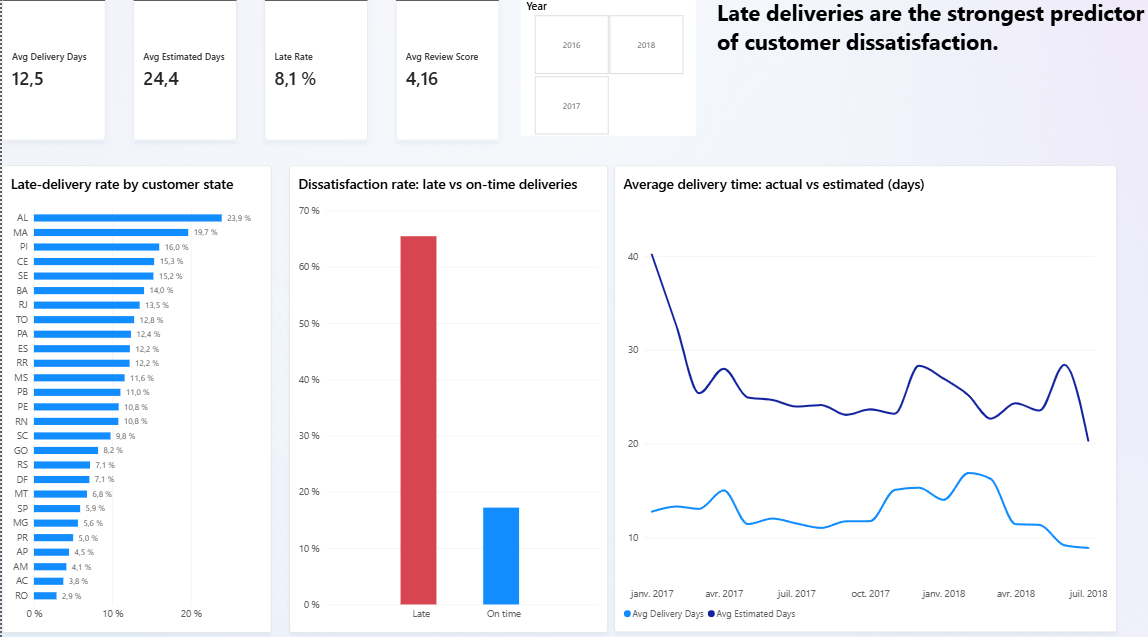

The page's visual inventory and layout, read from the dashboard file:
{"tool":"powerbi","page":{"name":"Logistics & Satisfaction","canvas":[1920,1080],"ordinal":1},"visuals":[{"type":"cardVisual","fields":{"Data":["Mesures.Avg Delivery Days"]},"box":[0,0,152.9,209.6],"z":0},{"type":"cardVisual","fields":{"Data":["Mesures.Avg Estimated Days"]},"box":[192.6,0,152.9,209.6],"z":1000},{"type":"cardVisual","fields":{"Data":["Mesures.Late Rate"]},"box":[385.1,0,152.9,209.6],"z":2000},{"type":"cardVisual","fields":{"Data":["Mesures.Avg Review Score"]},"box":[577.7,0,152.9,209.6],"z":3000},{"type":"clusteredBarChart","title":"Late-delivery rate by customer state","fields":{"Category":["Orders.customer_state"],"Y":["Mesures.Late Rate"]},"box":[0,245.8,395.6,685.6],"z":4000},{"type":"clusteredColumnChart","title":"Dissatisfaction rate: late vs on-time deliveries","fields":{"Category":["Orders.Delivery Status"],"Y":["Mesures.Dissatisfaction Rate"]},"box":[421.9,246.4,467.3,685.3],"z":5000},{"type":"slicer","fields":{"Values":["Dates.Year"]},"box":[760.9,0,257,202],"z":6000},{"type":"textbox","box":[1049.4,0,633.2,209.4],"z":7000},{"type":"lineChart","title":"Average delivery time: actual vs estimated (days)","fields":{"Category":["Dates.Month Start"],"Y":["Mesures.Avg Delivery Days","Mesures.Avg Estimated Days"]},"box":[898.6,245.9,736.5,685.1],"z":7001}]}

Visuals, with their boxes in screenshot pixels (x1, y1, x2, y2), scaled from the page's 1920x1080 canvas onto the 1148x637 screenshot:
cardVisual - Mesures.Avg Delivery Days: x1=0, y1=0, x2=91, y2=124
cardVisual - Mesures.Avg Estimated Days: x1=115, y1=0, x2=207, y2=124
cardVisual - Mesures.Late Rate: x1=230, y1=0, x2=322, y2=124
cardVisual - Mesures.Avg Review Score: x1=345, y1=0, x2=437, y2=124
"Late-delivery rate by customer state" clusteredBarChart: x1=0, y1=145, x2=237, y2=549
"Dissatisfaction rate: late vs on-time deliveries" clusteredColumnChart: x1=252, y1=145, x2=532, y2=550
slicer - Dates.Year: x1=455, y1=0, x2=609, y2=119
textbox: x1=627, y1=0, x2=1006, y2=124
"Average delivery time: actual vs estimated (days)" lineChart: x1=537, y1=145, x2=978, y2=549
